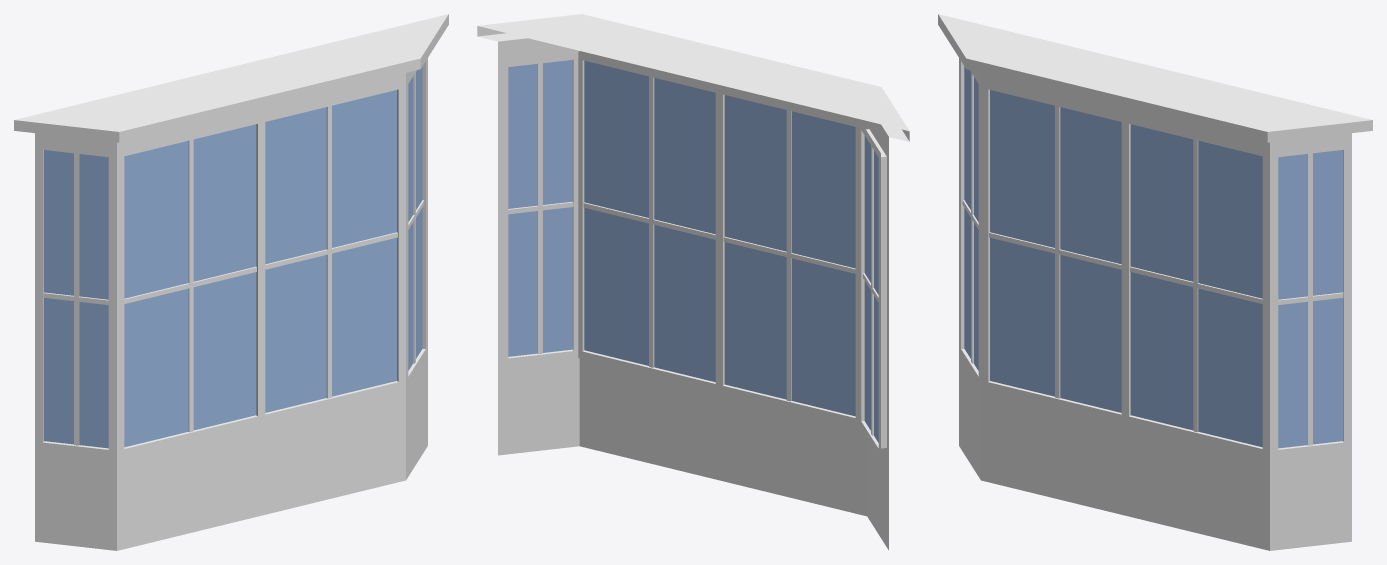
The model's file is display_window.glb.
3 renders of one model, left to right at view 1: azimuth 30°, elevation 25°; view 2: azimuth 150°, elevation 25°; view 3: azimuth 330°, elevation 25°, orthographic.
Visible parts, largest first — view 1: display_window_col, window_arc_glass_front, window_arc_glass_front.001, window_arc_glass_side_l, window_arc_glass_side_r, frame_front, frame_front.001, frame_side_l, frame_side_r; view 2: display_window_col, window_arc_glass_front, window_arc_glass_front.001, window_arc_glass_side_r, window_arc_glass_side_l, frame_front, frame_front.001, frame_side_r, frame_side_l; view 3: display_window_col, window_arc_glass_front.001, window_arc_glass_front, window_arc_glass_side_r, window_arc_glass_side_l, frame_front.001, frame_front, frame_side_r, frame_side_l.
Boxes of the visible parts, bbox=[...] form: display_window_col: bbox=[14, 14, 448, 550]; window_arc_glass_front: bbox=[124, 124, 256, 447]; window_arc_glass_front.001: bbox=[265, 90, 396, 412]; window_arc_glass_side_l: bbox=[44, 150, 108, 448]; window_arc_glass_side_r: bbox=[408, 66, 422, 370]; frame_front: bbox=[124, 139, 256, 432]; frame_front.001: bbox=[265, 106, 397, 398]; frame_side_l: bbox=[43, 153, 108, 445]; frame_side_r: bbox=[408, 72, 424, 363]; display_window_col: bbox=[477, 14, 909, 550]; window_arc_glass_front: bbox=[724, 95, 855, 416]; window_arc_glass_front.001: bbox=[584, 60, 715, 382]; window_arc_glass_side_r: bbox=[508, 60, 572, 356]; window_arc_glass_side_l: bbox=[864, 136, 878, 442]; frame_front: bbox=[723, 110, 855, 401]; frame_front.001: bbox=[583, 76, 715, 367]; frame_side_r: bbox=[508, 63, 573, 354]; frame_side_l: bbox=[863, 146, 878, 435]; display_window_col: bbox=[938, 14, 1372, 550]; window_arc_glass_front.001: bbox=[1130, 124, 1262, 447]; window_arc_glass_front: bbox=[990, 90, 1121, 412]; window_arc_glass_side_r: bbox=[1278, 150, 1342, 448]; window_arc_glass_side_l: bbox=[964, 66, 978, 370]; frame_front.001: bbox=[1130, 139, 1262, 432]; frame_front: bbox=[989, 106, 1121, 398]; frame_side_r: bbox=[1278, 153, 1343, 445]; frame_side_l: bbox=[962, 72, 978, 363].
Size of the model in its own units: 2.95 by 2.77 by 0.4889.
